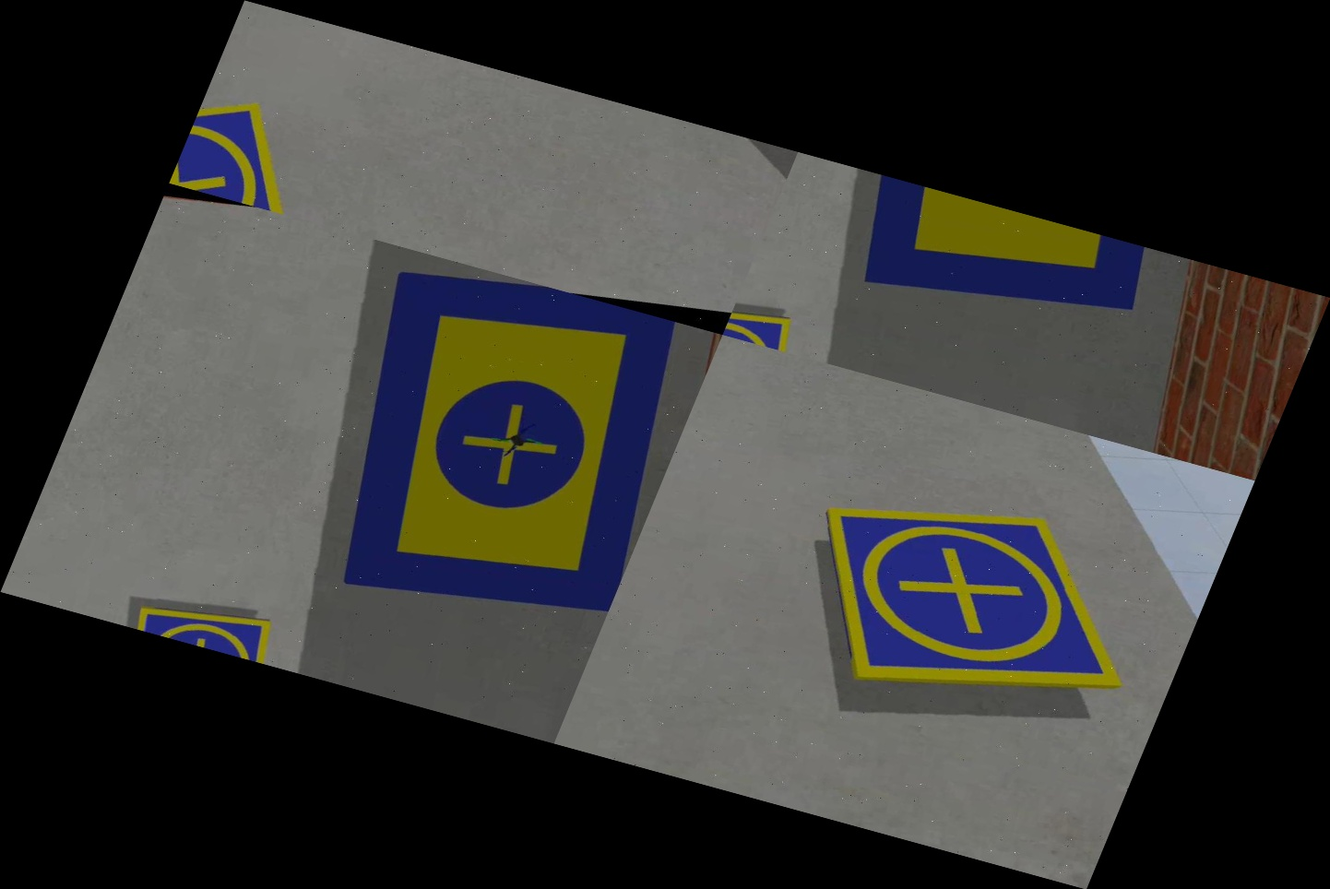large_base: (275, 248, 722, 651), (790, 161, 1157, 351)
small_base: (758, 451, 1188, 763), (169, 78, 355, 222), (128, 583, 294, 667)
